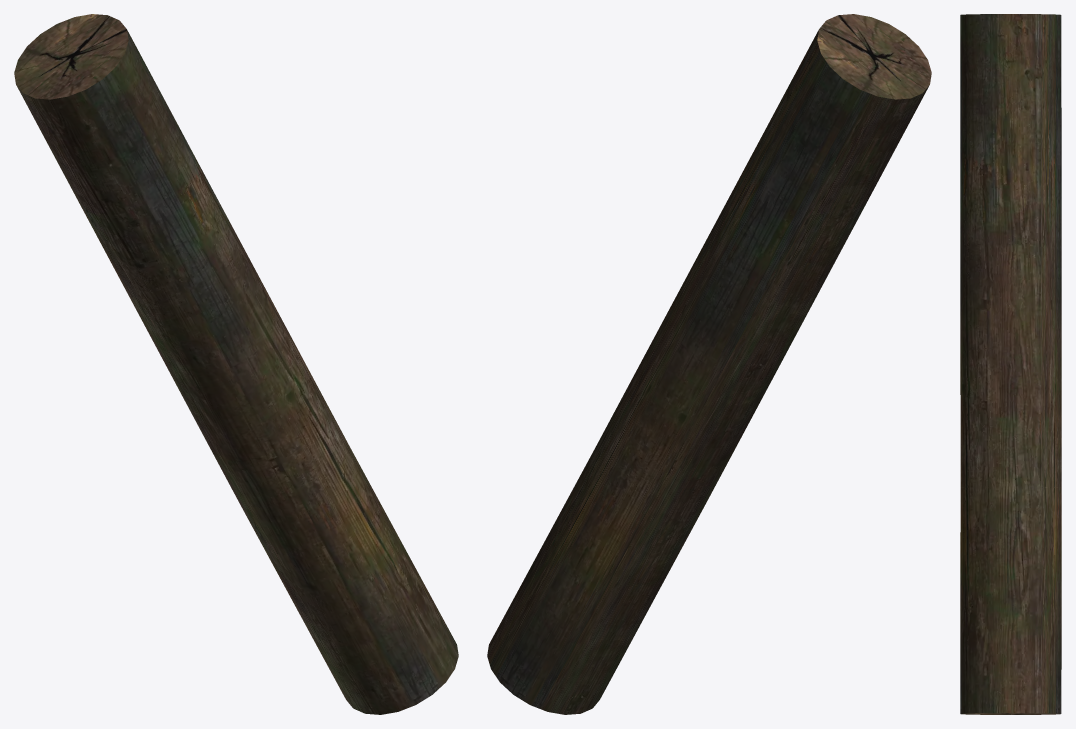
The picture shows the model from 3 angles, left to right: view 1: azimuth 30°, elevation 25°; view 2: azimuth 150°, elevation 25°; view 3: azimuth 270°, elevation 25°; orthographic projection. The views are drawn at different scales.
Parts seen in each view (by area): view 1: SM_BB_T1_Beam_Thick_Large_Vertical_LOD0; view 2: SM_BB_T1_Beam_Thick_Large_Vertical_LOD0; view 3: SM_BB_T1_Beam_Thick_Large_Vertical_LOD0.
Part boxes in pixels (x1=…): SM_BB_T1_Beam_Thick_Large_Vertical_LOD0: x1=14, y1=14, x2=458, y2=714; SM_BB_T1_Beam_Thick_Large_Vertical_LOD0: x1=487, y1=14, x2=931, y2=714; SM_BB_T1_Beam_Thick_Large_Vertical_LOD0: x1=960, y1=14, x2=1061, y2=714.
Size of the model in its own units: 1.94 by 3.23 by 0.4895.
